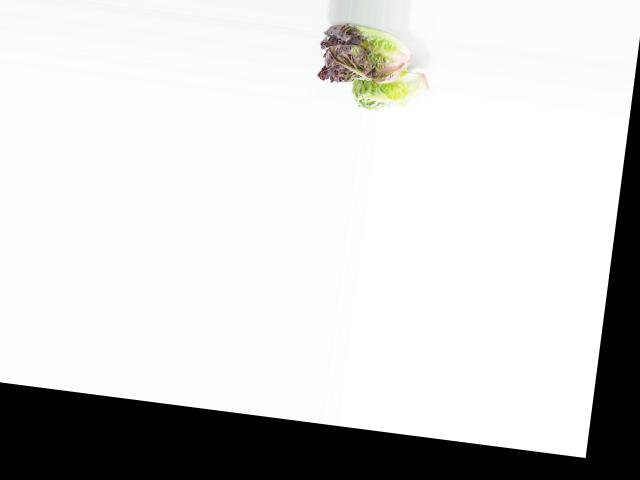lettuce: (347, 61, 434, 118)
